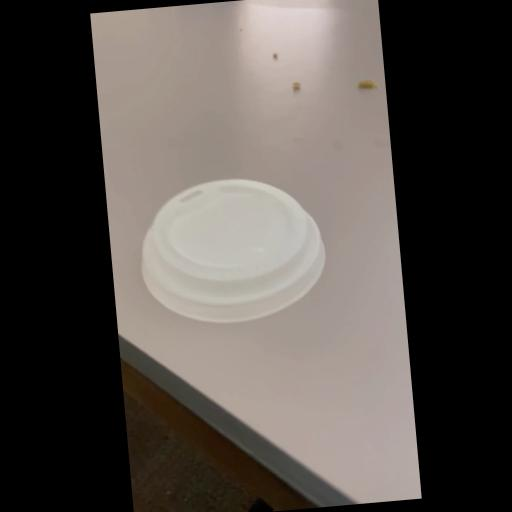lp_cup_lids: (132, 169, 334, 331)
